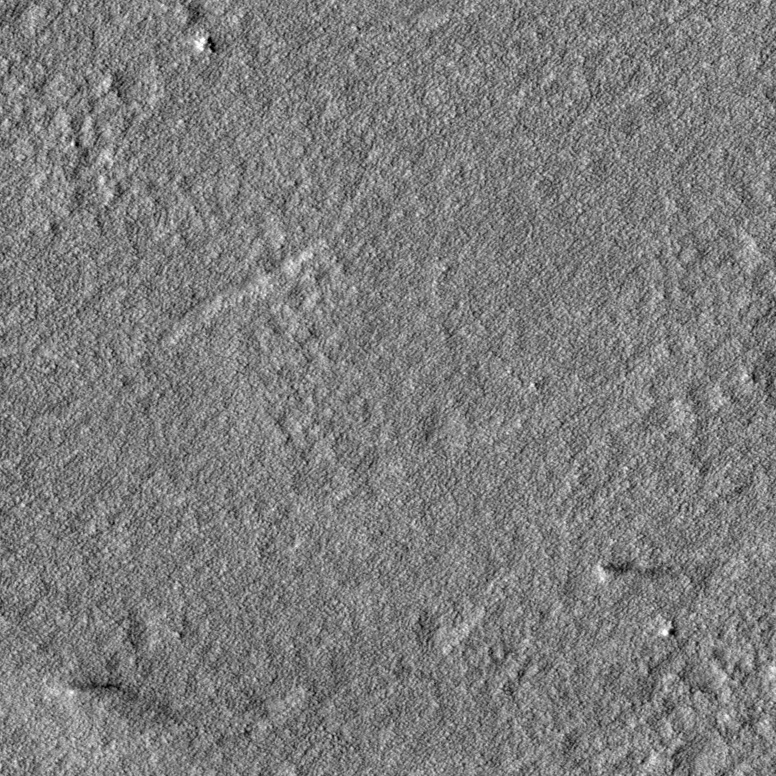dust_devil: (594, 559, 670, 586), (65, 680, 124, 699)
